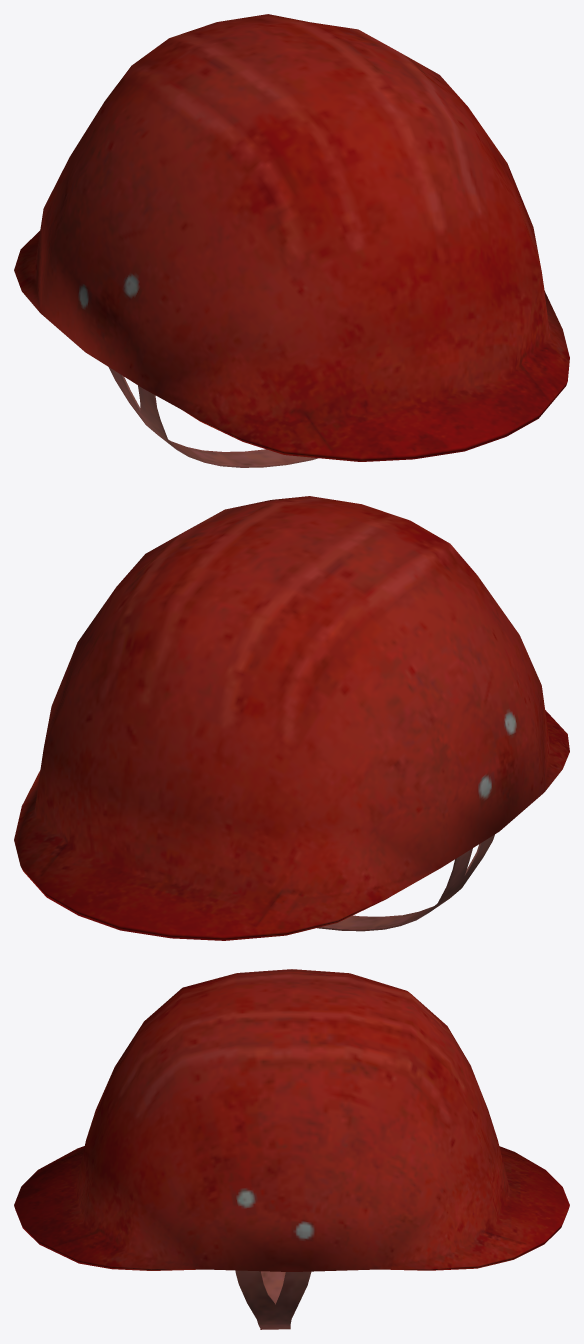
Rendered from hardhat.dae.
3 views of the same model, one above another, from view 1: azimuth 30°, elevation 25°; view 2: azimuth 150°, elevation 25°; view 3: azimuth 270°, elevation 25° (orthographic). The views are drawn at different scales.
Parts seen in each view (by area): view 1: polySurface119; view 2: polySurface119; view 3: polySurface119.
Boxes of the visible parts, x1=… form: polySurface119: x1=14, y1=14, x2=569, y2=467; polySurface119: x1=14, y1=496, x2=569, y2=940; polySurface119: x1=14, y1=969, x2=569, y2=1329.
Bounding box in the file's own units: 0.3106 × 0.2822 × 0.4495.
